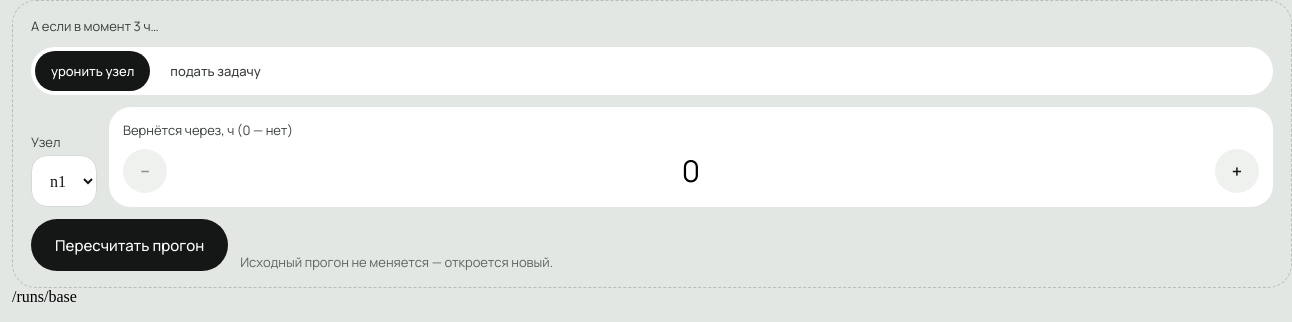
Test: RunEvents › submits an urgent task with a free id
Click the radio button labelled "подать задачу". click: (216, 71)
box: left=154, top=51, right=277, bottom=91
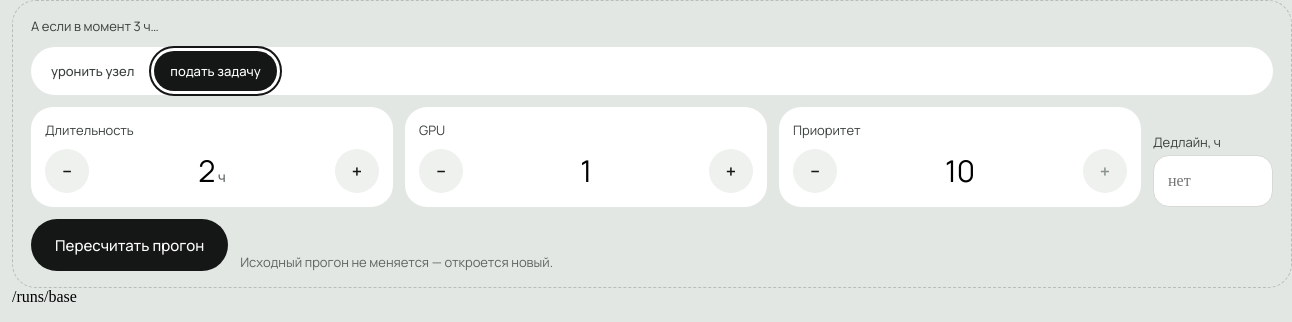
Click the button named "Дольше". click: (357, 171)
box: left=335, top=149, right=379, bottom=193
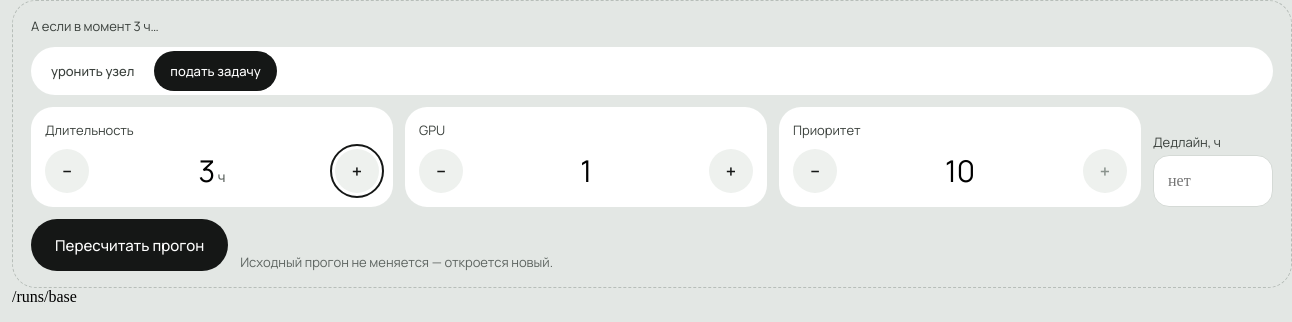
Type "9" into the number field with placeholder "нет". click: (1213, 181)
box: left=1153, top=155, right=1273, bottom=207
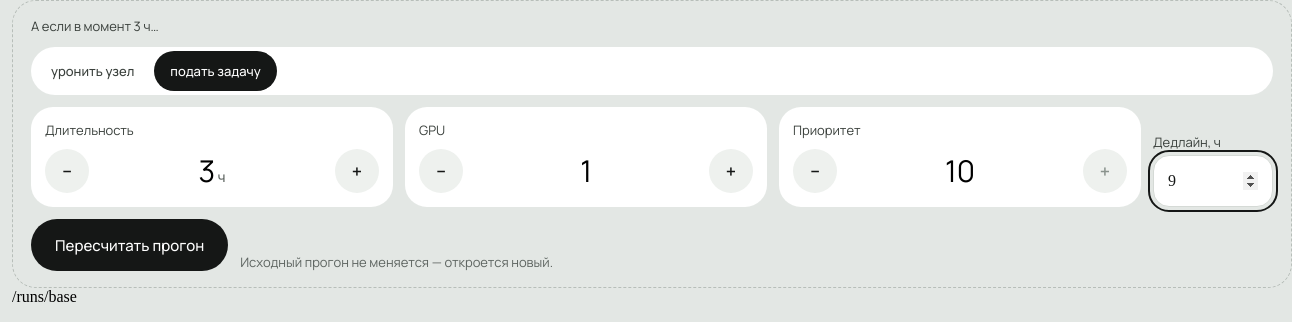
Click the button "Пересчитать прогон". click: (130, 245)
box: left=31, top=219, right=228, bottom=271
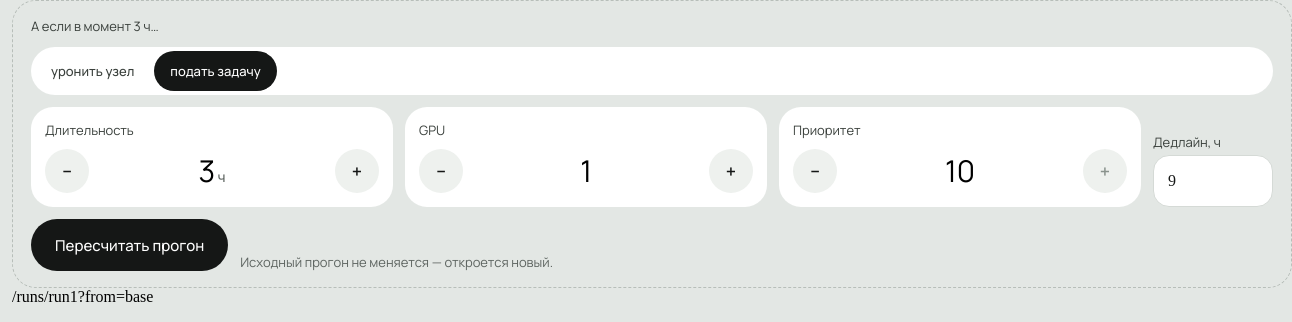
Expected: the text "/runs/run1?from=base" is shown, left=12, top=288, right=153, bottom=305
